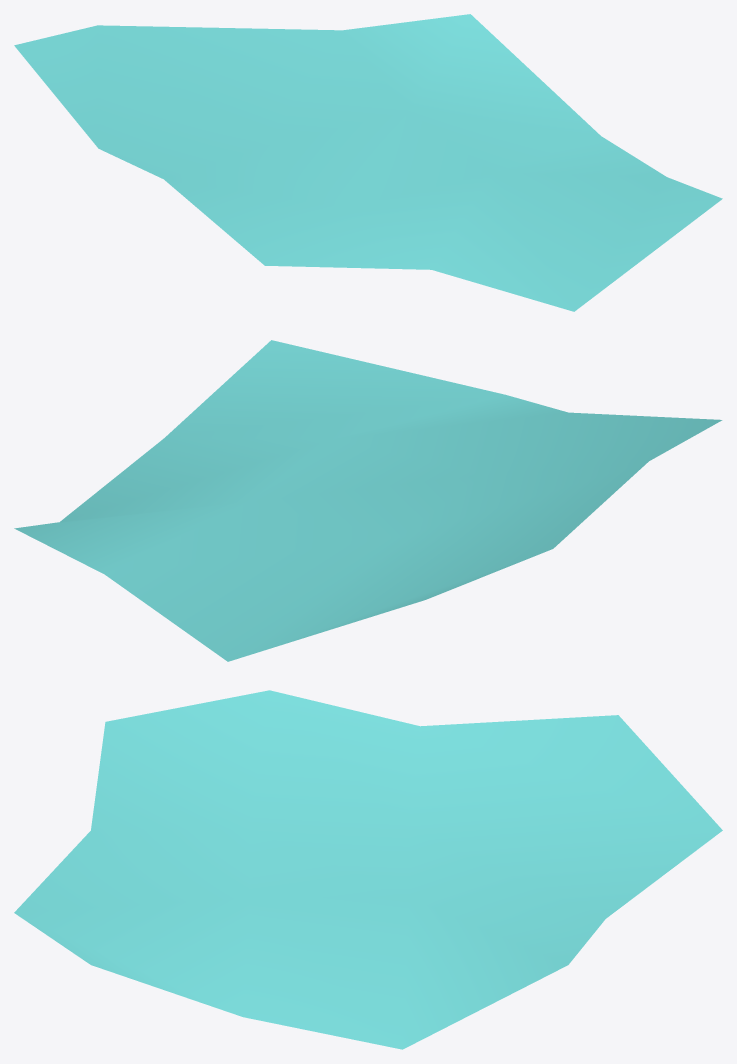
Rendered from Pfütze.fbx.
The picture shows the model from 3 angles, top to bottom: view 1: azimuth 30°, elevation 25°; view 2: azimuth 150°, elevation 25°; view 3: azimuth 270°, elevation 25°; orthographic projection. The views are drawn at different scales.
Parts seen in each view (by area): view 1: pPlane1; view 2: pPlane1; view 3: pPlane1.
Part boxes in pixels (<box>): pPlane1: <box>14,14,722,311</box>; pPlane1: <box>14,340,722,661</box>; pPlane1: <box>14,690,722,1049</box>.
Bounding box in the file's own units: 1.16 × 0.2887 × 1.48.
